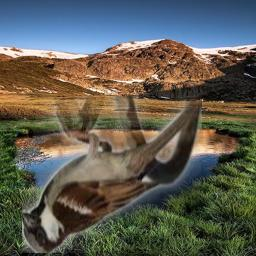Sparrow: (22, 96, 202, 253)
